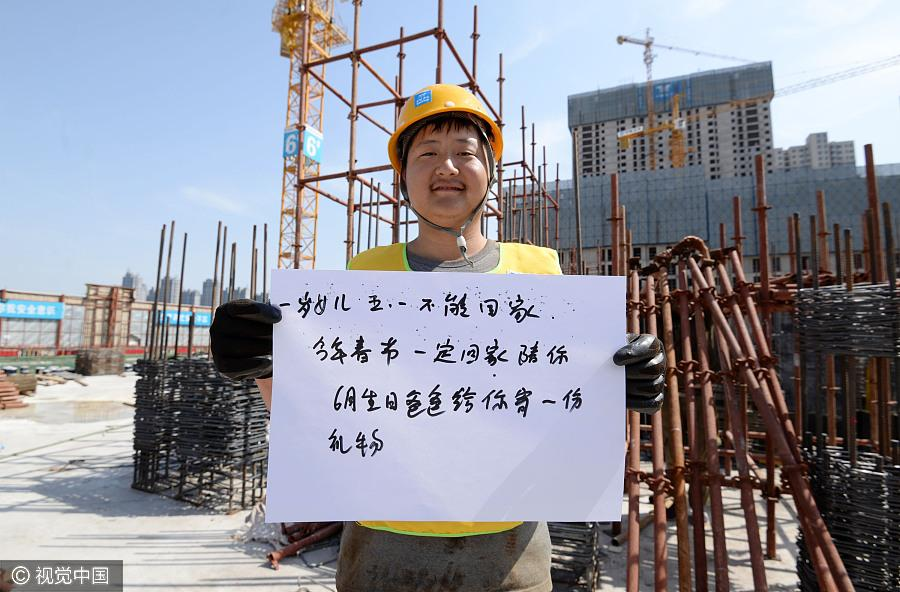helmet: (386, 86, 508, 173)
